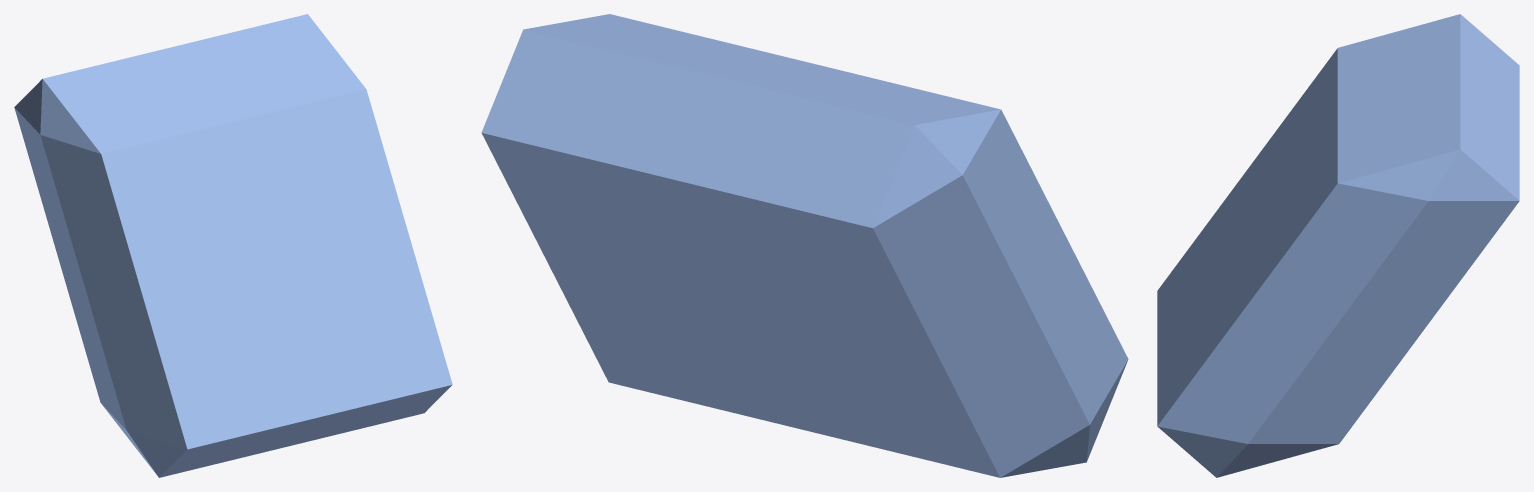
The model's file is kn-pillow-blue-long.glb.
3 views of the same model, side by side, from view 1: azimuth 30°, elevation 25°; view 2: azimuth 150°, elevation 25°; view 3: azimuth 270°, elevation 25° (orthographic). The views are drawn at different scales.
Visible parts, largest first — view 1: pillowBlueLong(Clone); view 2: pillowBlueLong(Clone); view 3: pillowBlueLong(Clone).
Boxes of the visible parts, x1,y1,x2,y2 form: pillowBlueLong(Clone): (14, 14, 452, 477); pillowBlueLong(Clone): (481, 14, 1128, 477); pillowBlueLong(Clone): (1157, 14, 1519, 477).
Bounding box in the file's own units: 1 × 1 × 1.
